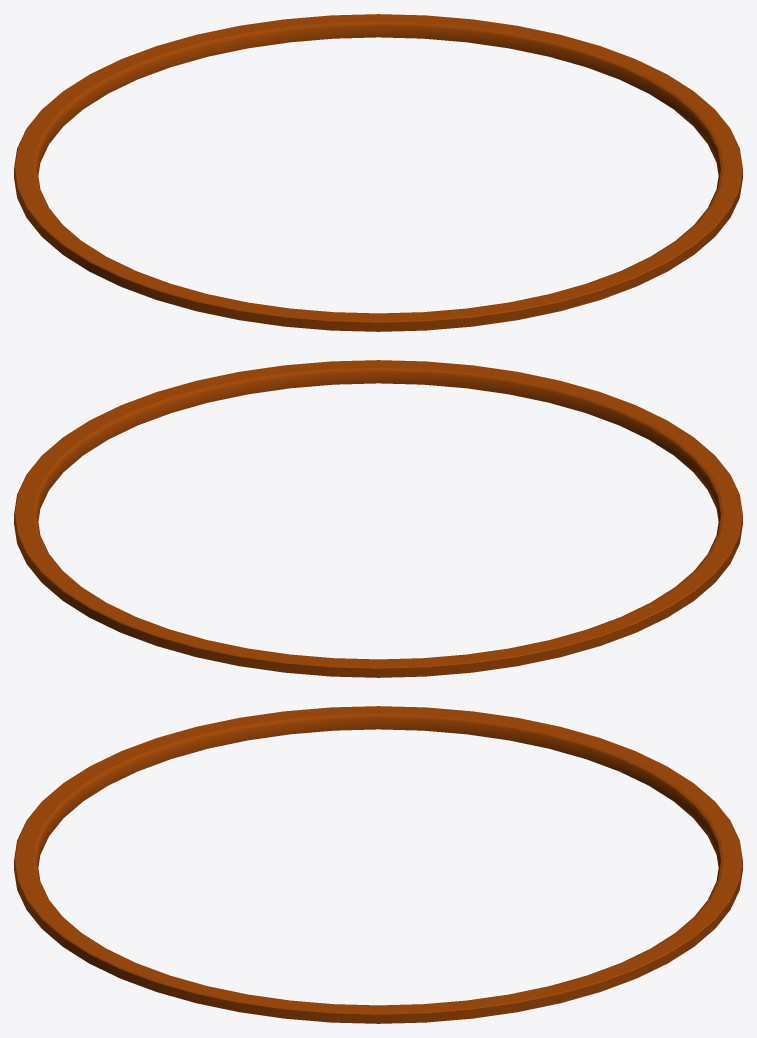
The model's file is Timer.FBX.
The picture shows the model from 3 angles, top to bottom: view 1: azimuth 30°, elevation 25°; view 2: azimuth 150°, elevation 25°; view 3: azimuth 270°, elevation 25°; orthographic projection.
Parts seen in each view (by area): view 1: Object001; view 2: Object001; view 3: Object001.
Boxes of the visible parts, bbox=[...] form: Object001: bbox=[14, 14, 742, 331]; Object001: bbox=[14, 360, 742, 677]; Object001: bbox=[14, 706, 742, 1023].
Size of the model in its own units: 160 by 3.33 by 160.
